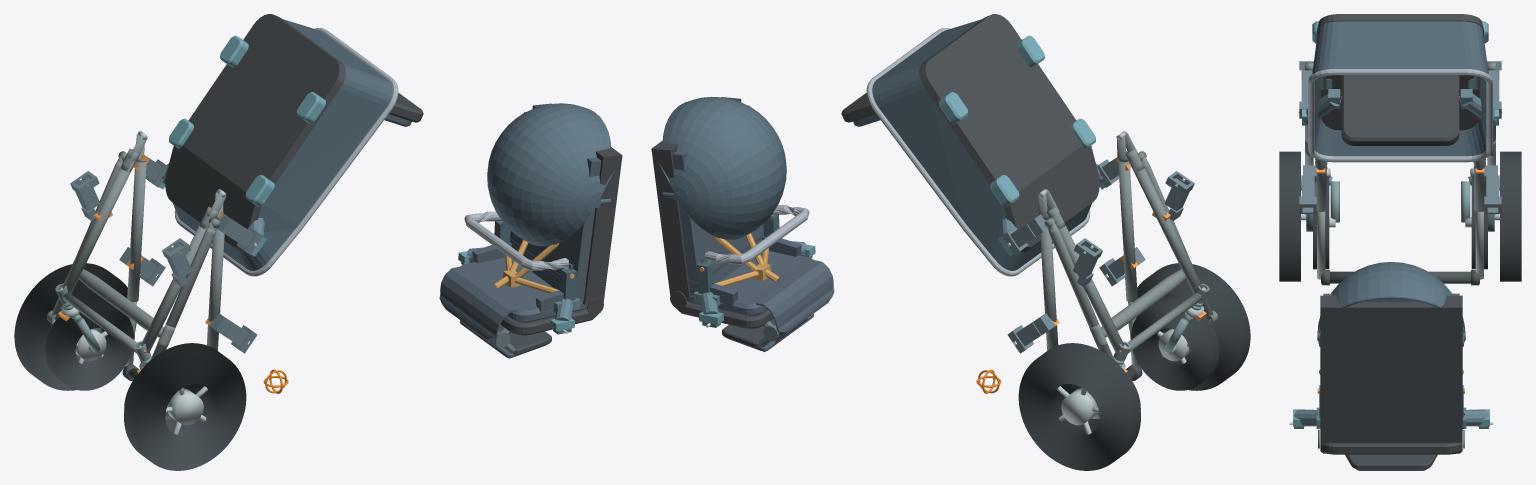
The model's file is D20_w550_state3_wheel_L.glb.
3 renders of one model, left to right at view 1: azimuth 30°, elevation 25°; view 2: azimuth 150°, elevation 25°; view 3: azimuth 270°, elevation 25°, orthographic.
Parts seen in each view (by area): view 1: D20_Lower, D20_Upper, RL_tire.004, FR_tire.004, RR_tire.004, main_upper_1.005, main_lower_1.005, V46_rearbar.005, main_upper_-1.005, V46_rear_leg_-1.005, main_lower_-1.005, D20_Upper_Mount_H (+7 smaller); view 2: D20_Lower, D20_Upper, RR_tire.004, FL_tire.004, RL_tire.004, main_upper_-1.005, main_lower_-1.005, V46_rearbar.005, main_upper_1.005, V46_rear_leg_1.005, main_lower_1.005, D20_Upper_Mount_H (+7 smaller); view 3: D20_Upper, D20_Lower, RL_tire.004, RR_tire.004, D20_Lower_Mount_M, D20_Upper_Mount_H, Universal_Cabin_Receiver_H_1, Universal_Cabin_Receiver_H_-1, round_handle.004, FL_tire.004, FR_tire.004, handle_slider_1.004 (+7 smaller).
Boxes of the visible parts, box(x1,y1,x2,y2) form: D20_Lower: box(165, 14, 423, 276); D20_Upper: box(439, 103, 622, 358); RL_tire.004: box(124, 343, 246, 470); FR_tire.004: box(45, 298, 133, 390); RR_tire.004: box(14, 263, 136, 390); main_upper_1.005: box(127, 161, 146, 302); main_lower_1.005: box(62, 161, 134, 293); V46_rearbar.005: box(79, 269, 163, 337); main_upper_-1.005: box(206, 220, 224, 350); V46_rear_leg_-1.005: box(150, 227, 216, 360); main_lower_-1.005: box(141, 225, 208, 353); D20_Upper_Mount_H: box(458, 247, 580, 334); D20_Lower: box(841, 14, 1099, 276); D20_Upper: box(651, 96, 834, 351); RR_tire.004: box(1018, 343, 1140, 470); FL_tire.004: box(1131, 298, 1219, 390); RL_tire.004: box(1128, 263, 1250, 390); main_upper_-1.005: box(1118, 161, 1137, 302); main_lower_-1.005: box(1130, 161, 1202, 293); V46_rearbar.005: box(1101, 269, 1186, 337); main_upper_1.005: box(1040, 220, 1058, 350); V46_rear_leg_1.005: box(1048, 227, 1114, 359); main_lower_1.005: box(1056, 225, 1123, 353); D20_Upper_Mount_H: box(693, 241, 815, 327); D20_Upper: box(1317, 262, 1465, 470); D20_Lower: box(1308, 14, 1492, 162); RL_tire.004: box(1279, 151, 1300, 281); RR_tire.004: box(1500, 151, 1521, 281); D20_Lower_Mount_M: box(1298, 89, 1502, 125); D20_Upper_Mount_H: box(1289, 407, 1493, 428); Universal_Cabin_Receiver_H_1: box(1484, 165, 1501, 213); Universal_Cabin_Receiver_H_-1: box(1299, 165, 1316, 213); round_handle.004: box(1321, 271, 1479, 283); FL_tire.004: box(1313, 175, 1329, 269); FR_tire.004: box(1471, 175, 1487, 269); handle_slider_1.004: box(1475, 211, 1483, 279).
Size of the model in its own units: 1.67 by 1.07 by 0.671.
